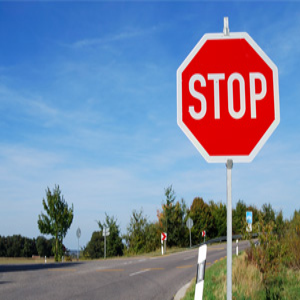STOP_SIGN: (176, 31, 281, 163)
